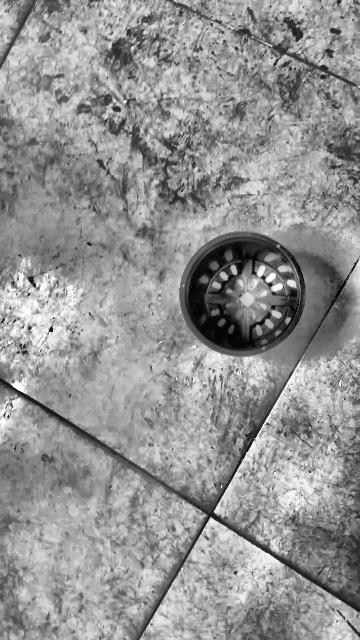pot: (180, 231, 307, 355)
